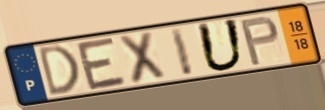D: (36, 42, 82, 99)
E: (74, 35, 130, 93)
I: (167, 25, 196, 78)
P: (238, 14, 281, 68)
U: (195, 17, 247, 74)
X: (116, 29, 169, 86)
